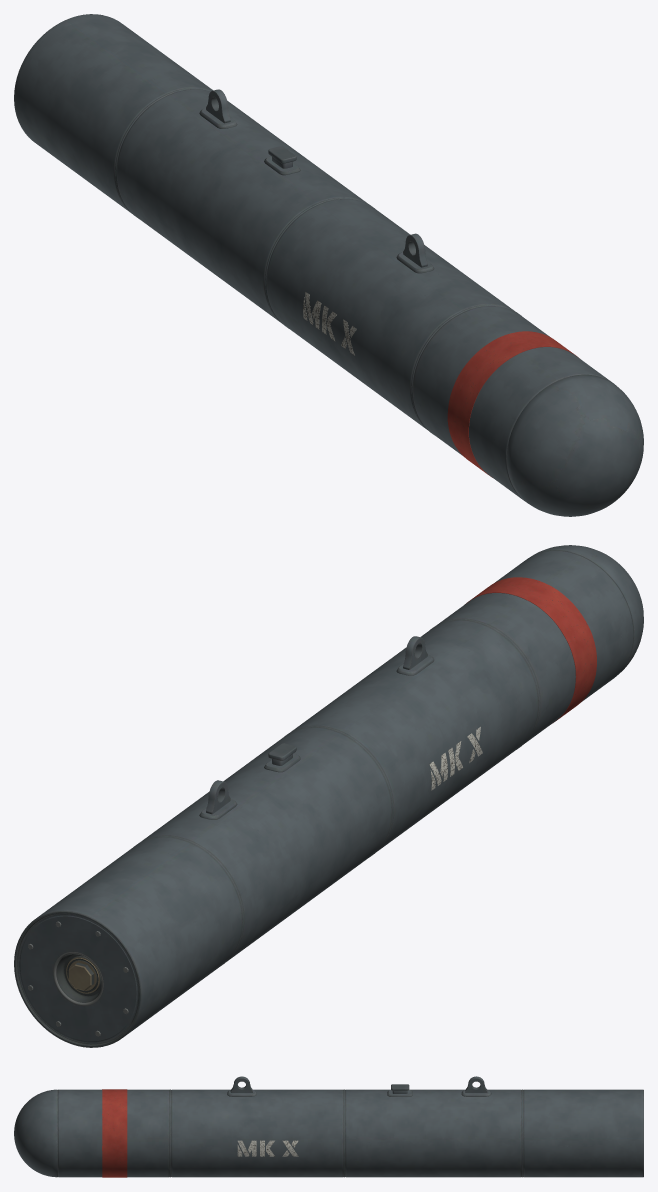
The picture shows the model from 3 angles, top to bottom: view 1: azimuth 30°, elevation 25°; view 2: azimuth 150°, elevation 25°; view 3: azimuth 270°, elevation 25°; orthographic projection. The views are drawn at different scales.
Visible parts, largest first — view 1: case, nose_dome, red_band, lifting_lugs, MK X | starboard, guide_stud; view 2: case, end_plate, red_band, nose_dome, lifting_lugs, hydrostatic_pistol, MK X | starboard, guide_stud; view 3: case, nose_dome, red_band, lifting_lugs, MK X | port, guide_stud.
Part boxes in pixels (bbox=[...]): case: bbox=[14, 14, 613, 500]; nose_dome: bbox=[506, 374, 643, 516]; red_band: bbox=[447, 331, 578, 477]; lifting_lugs: bbox=[199, 89, 434, 273]; MK X | starboard: bbox=[303, 291, 356, 355]; guide_stud: bbox=[264, 146, 300, 175]; case: bbox=[14, 550, 633, 1047]; end_plate: bbox=[17, 914, 138, 1044]; red_band: bbox=[466, 577, 596, 723]; nose_dome: bbox=[531, 545, 643, 676]; lifting_lugs: bbox=[199, 636, 434, 819]; hydrostatic_pistol: bbox=[66, 956, 101, 993]; MK X | starboard: bbox=[429, 726, 482, 790]; guide_stud: bbox=[264, 743, 300, 772]; case: bbox=[58, 1089, 643, 1177]; nose_dome: bbox=[14, 1089, 57, 1177]; red_band: bbox=[102, 1089, 127, 1177]; lifting_lugs: bbox=[227, 1076, 491, 1096]; MK X | port: bbox=[237, 1140, 298, 1156]; guide_stud: bbox=[387, 1084, 412, 1096].
Bounding box in the file's own units: 0.5333 × 0.6402 × 3.8.
Materials: 7 (7 with a texture image).
